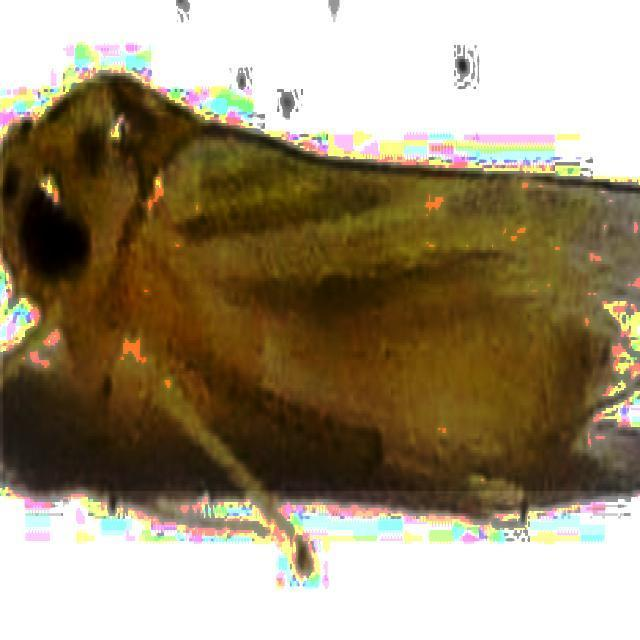green-leafhopper: (3, 84, 640, 492)
